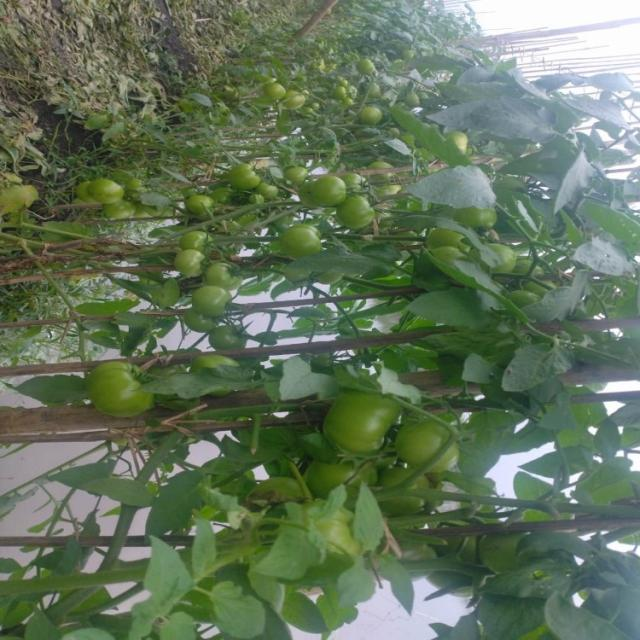tomato: (317, 382, 388, 459), (392, 416, 476, 478), (91, 358, 150, 420), (310, 449, 386, 497), (325, 181, 375, 224), (488, 229, 533, 269), (305, 164, 343, 207), (228, 157, 264, 199), (184, 283, 227, 316), (79, 174, 124, 205), (281, 222, 323, 254), (177, 246, 209, 283), (426, 224, 459, 258), (180, 231, 217, 260), (214, 256, 243, 289), (180, 190, 209, 214), (267, 75, 291, 103), (257, 179, 287, 200), (351, 55, 379, 75), (366, 101, 387, 127), (279, 89, 299, 110)
